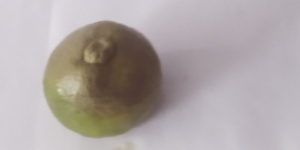BAD: (38, 16, 162, 138)
